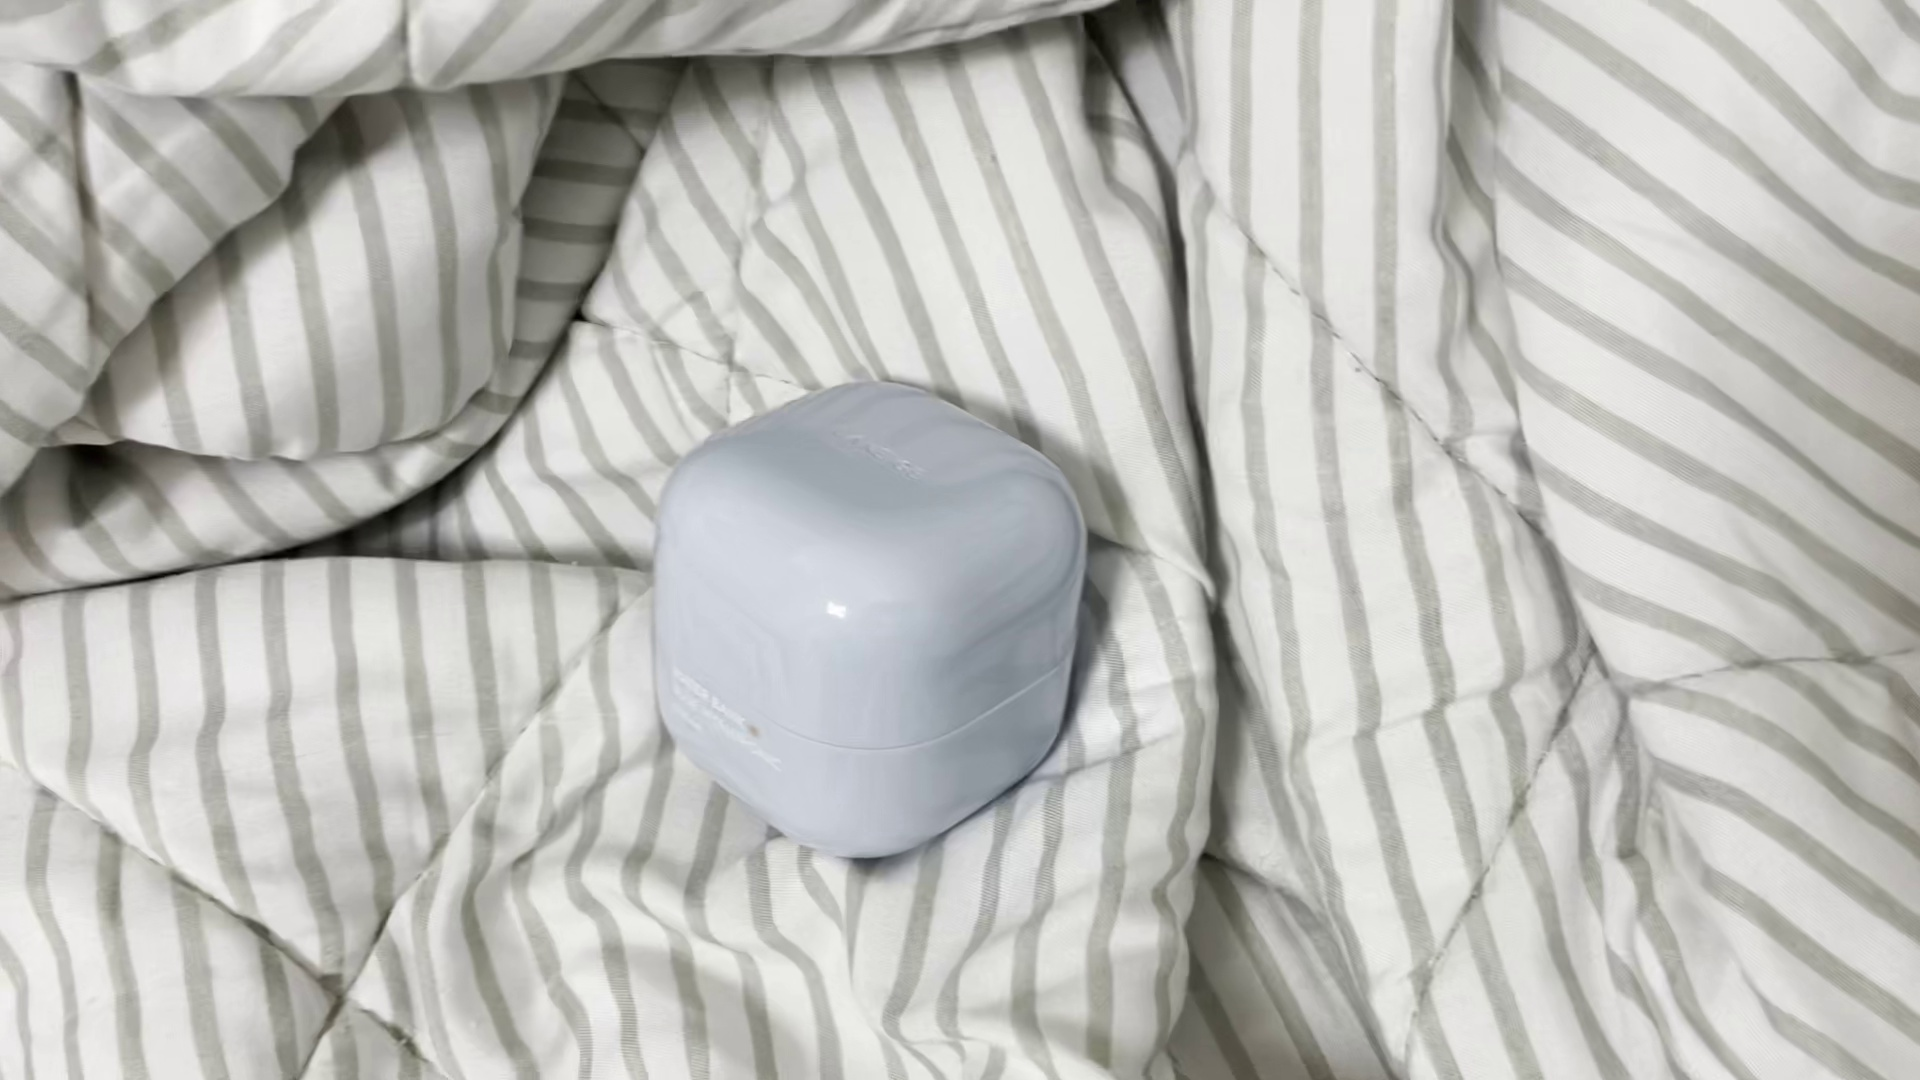cream: (657, 375, 1089, 864)
